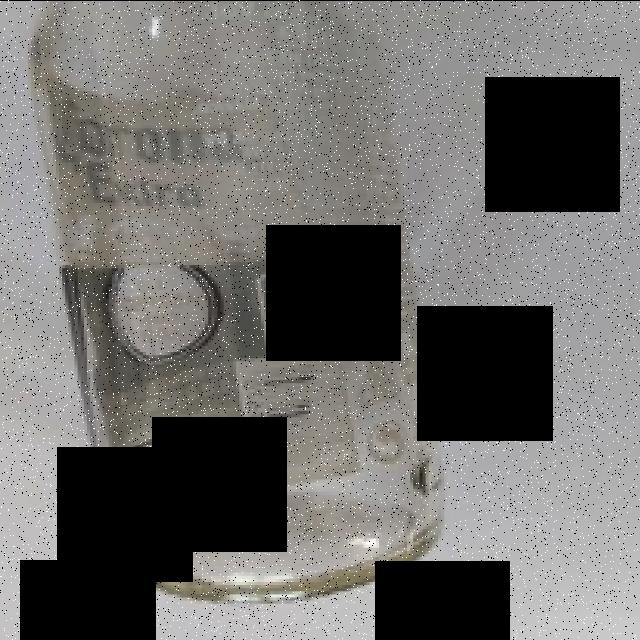glass-bottle: (10, 1, 458, 613)
